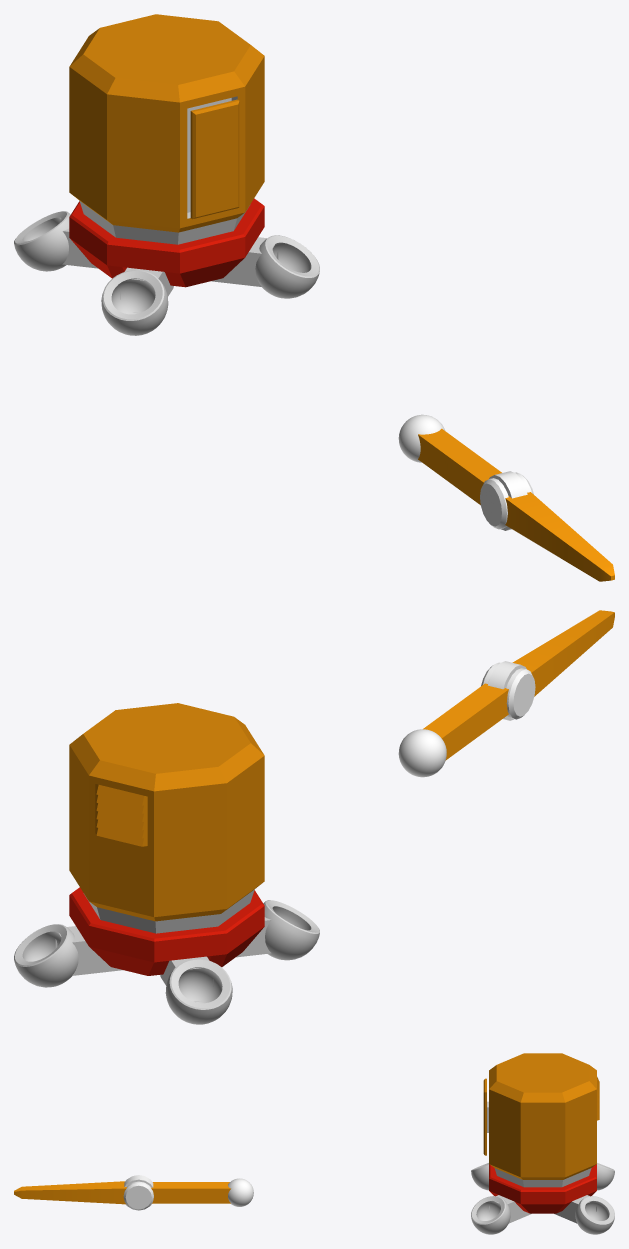
File: Spider.fbx
The picture shows the model from 3 angles, top to bottom: view 1: azimuth 30°, elevation 25°; view 2: azimuth 150°, elevation 25°; view 3: azimuth 270°, elevation 25°; orthographic projection. The views are drawn at different scales.
Visible parts, largest first — view 1: Body, Leg0, Leg1; view 2: Body, Leg0, Leg1; view 3: Body, Leg0, Leg1.
Boxes of the visible parts, x1=… form: Body: x1=14, y1=14, x2=319, y2=335; Leg0: x1=398, y1=414, x2=533, y2=529; Leg1: x1=489, y1=471, x2=614, y2=581; Body: x1=14, y1=703, x2=319, y2=1024; Leg0: x1=398, y1=662, x2=535, y2=777; Leg1: x1=488, y1=610, x2=614, y2=720; Body: x1=471, y1=1053, x2=614, y2=1234; Leg0: x1=123, y1=1175, x2=253, y2=1210; Leg1: x1=14, y1=1175, x2=153, y2=1208.
Size of the model in its own units: 1.32 by 1.39 by 5.5.
